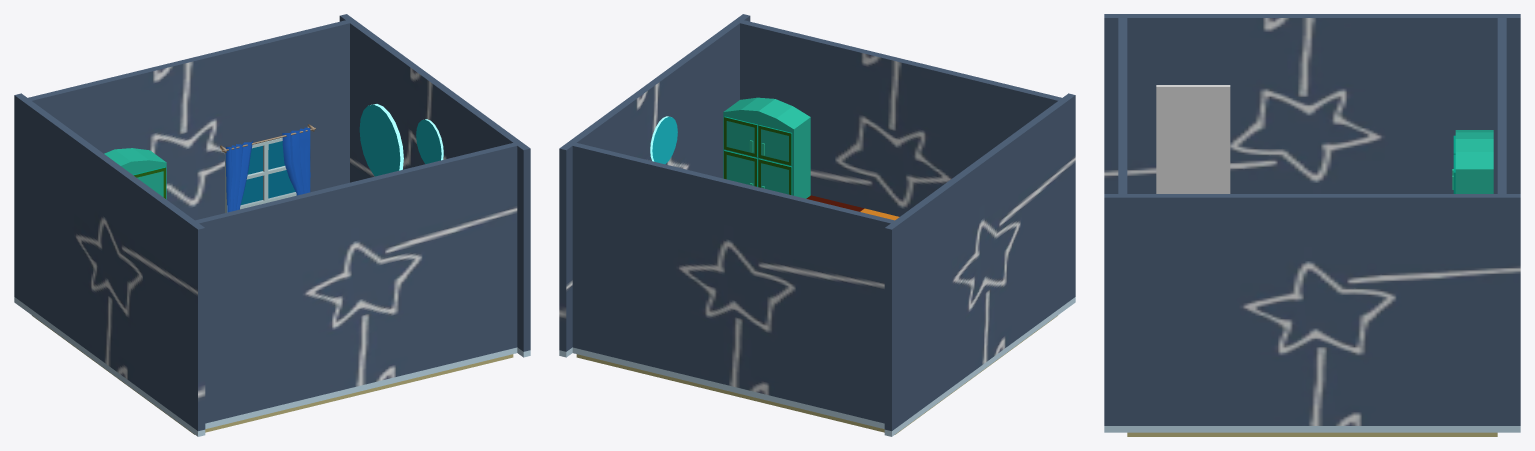
File: Quarto teste.fbx
3 renders of one model, left to right at view 1: azimuth 30°, elevation 25°; view 2: azimuth 150°, elevation 25°; view 3: azimuth 270°, elevation 25°, orthographic. The views are drawn at different scales.
Parts seen in each view (by area): view 1: parede.002, parede.003, parede, parede.001, Plane, Cube.001, Disco, Armario.piso.002, piso, Disco.001; view 2: parede, parede.003, parede.002, parede.001, Armario.piso.005, piso, Disco.001; view 3: parede.001, parede.003, porta, Armario.piso.002, piso, parede, parede.002.
Boxes of the visible parts, x1,y1,x2,y2 form: parede.002: (195,143,517,428); parede.003: (14,93,205,436); parede: (28,20,349,220); parede.001: (339,14,530,357); Plane: (220,124,315,212); Cube.001: (225,137,296,212); Disco: (359,104,403,176); Armario.piso.002: (104,148,166,199); piso: (32,315,513,434); Disco.001: (416,119,443,163); parede: (572,143,894,428); parede.003: (884,93,1075,436); parede.002: (740,20,1061,216); parede.001: (559,14,750,357); Armario.piso.005: (723,97,810,198); piso: (576,315,1057,434); Disco.001: (650,116,677,164); parede.001: (1104,194,1520,432); parede.003: (1104,14,1520,193); porta: (1156,85,1230,193); Armario.piso.002: (1452,130,1493,193); piso: (1127,432,1497,436); parede: (1497,18,1506,193); parede.002: (1118,18,1127,193).
Size of the model in its own units: 470 by 290 by 450.
11 materials, 2 textured.
